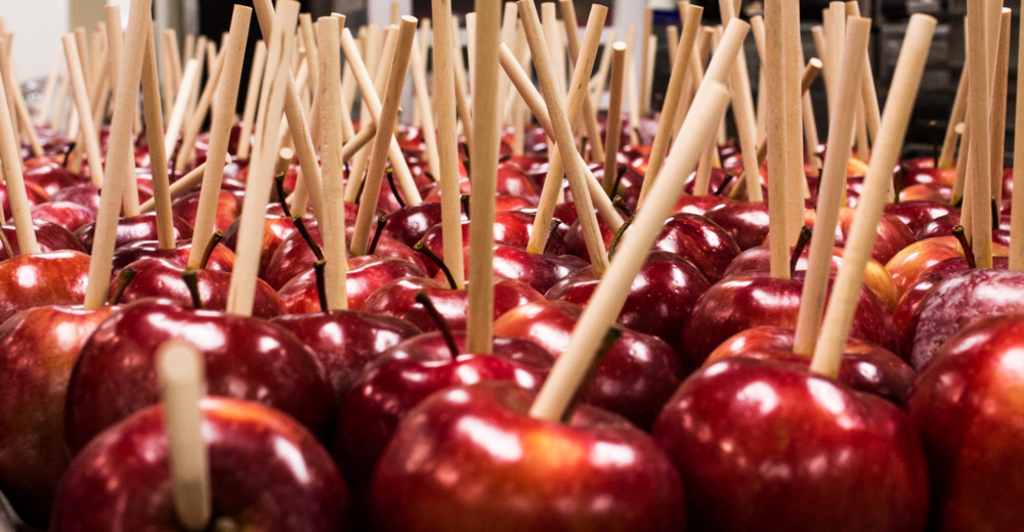Apple: (0, 115, 1022, 530)
